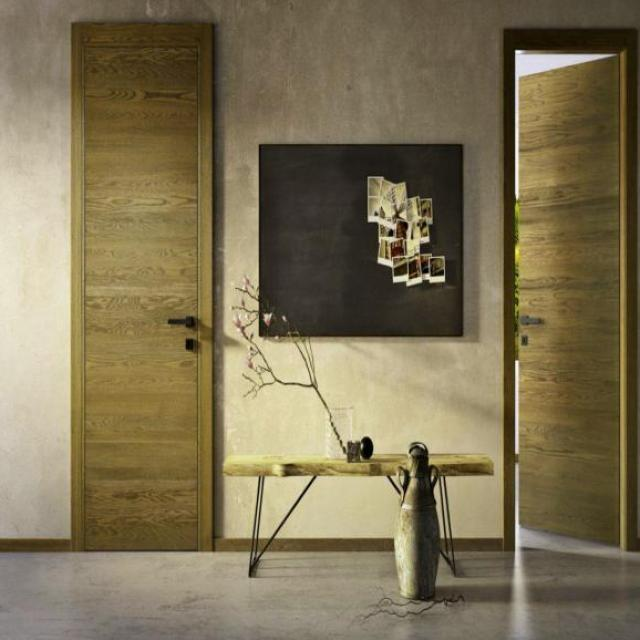door: (70, 20, 214, 551), (516, 49, 630, 552)
